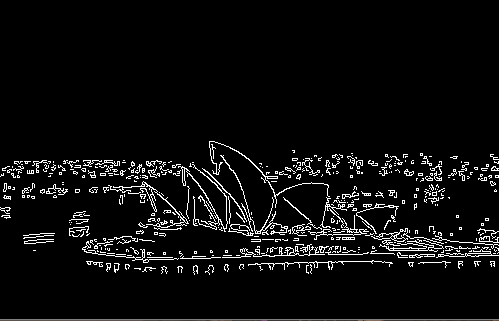opera house: (81, 106, 408, 264)
